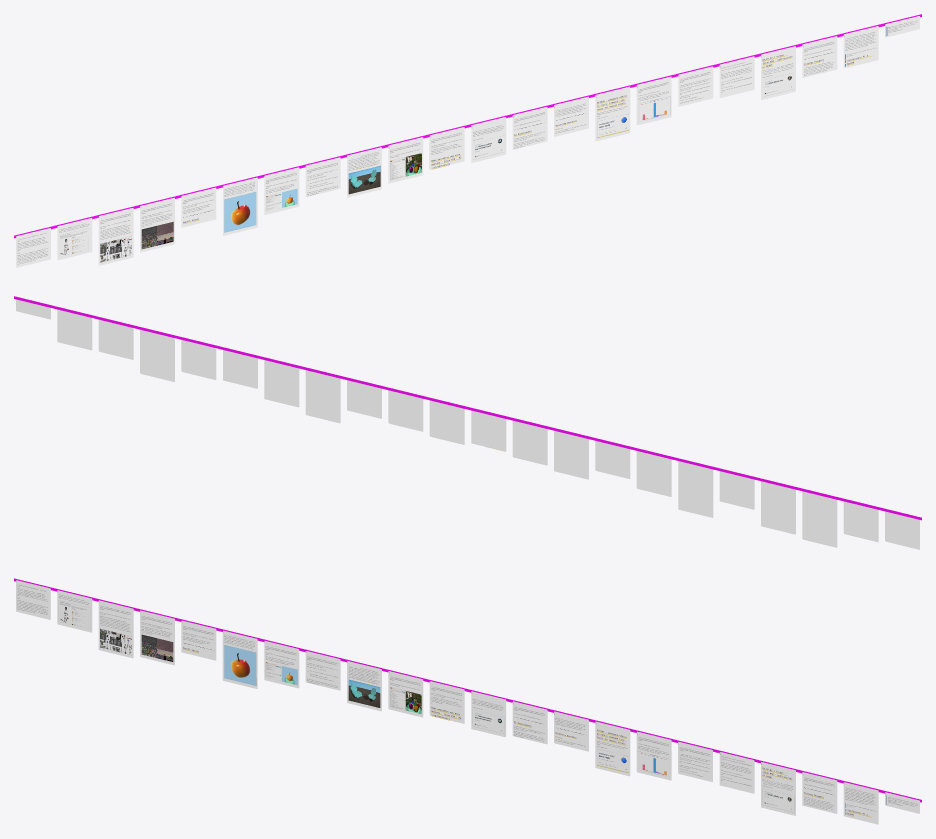
File: content.glb
The picture shows the model from 3 angles, top to bottom: view 1: azimuth 30°, elevation 25°; view 2: azimuth 150°, elevation 25°; view 3: azimuth 330°, elevation 25°; orthographic projection.
Visible parts, largest first — view 1: polygonBold⭐_merged_merged, plane (×10); view 2: polygonBold⭐_merged_merged; view 3: polygonBold⭐_merged_merged, plane (×11).
Part boxes in pixels (x1,y1,x2,y2): polygonBold⭐_merged_merged: [14, 14, 921, 267]; plane (×10): [59, 72, 794, 262]; polygonBold⭐_merged_merged: [14, 296, 921, 549]; polygonBold⭐_merged_merged: [14, 578, 921, 824]; plane (×11): [58, 600, 794, 812].
Bounding box in the file's own units: 1.92 × 0.1041 × 0.000281.
Materials: 2 (2 with a texture image).
